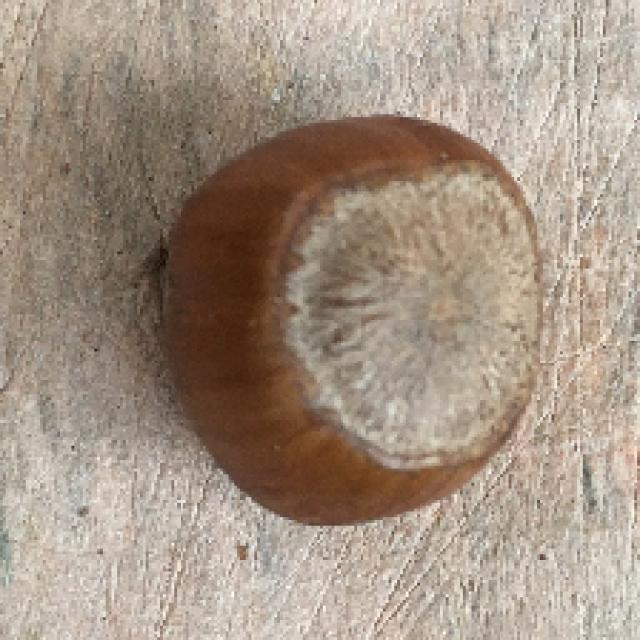damagedHazelnut: (154, 113, 548, 525)
